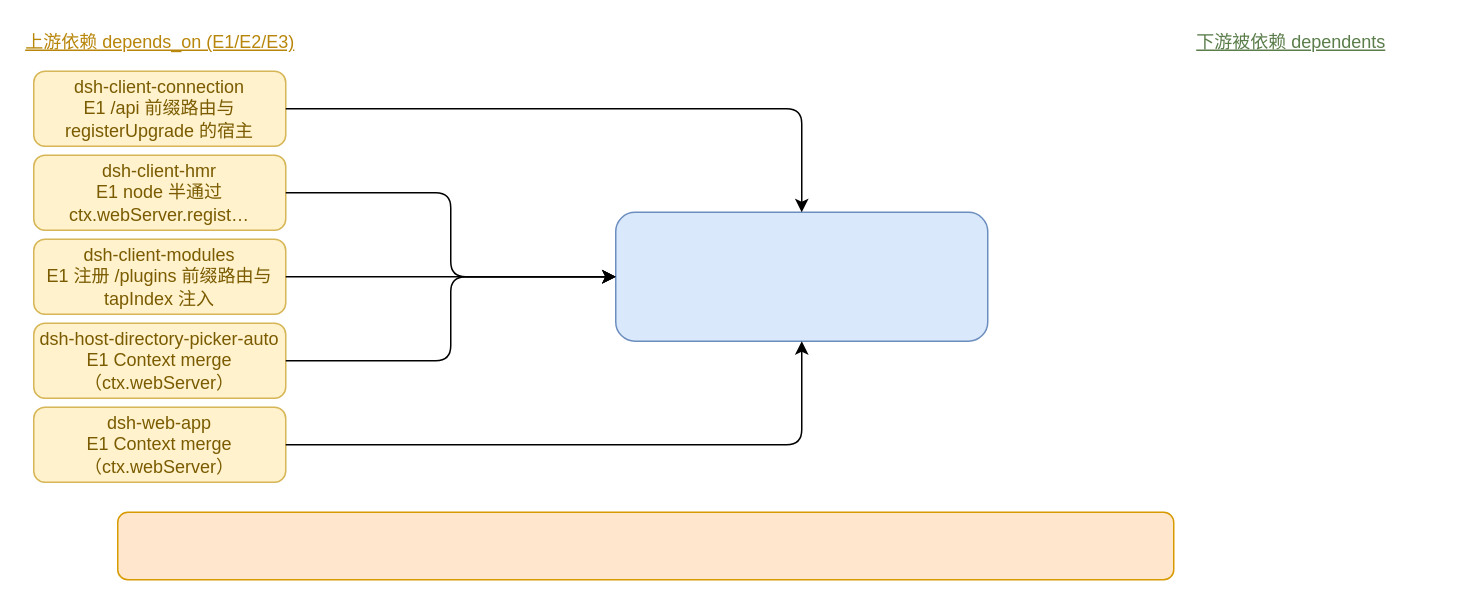
Some shapes in this 1479 by 606 pixel diagram are drawn without their labels. The centre of each missing label's shape, as x and y in pixels:
"dsh-host-webserver @deepseek-ai/dsh-host-webserver" belongs at (x=801, y=276).
"provides 关键项 • ctx.webServer（WebServer：register/re…" belongs at (x=645, y=545).
